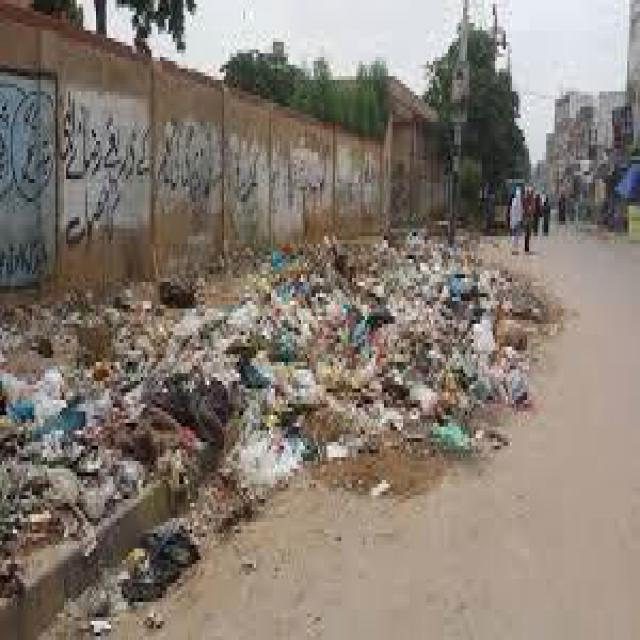garbage: (8, 339, 284, 495), (241, 259, 525, 404)
